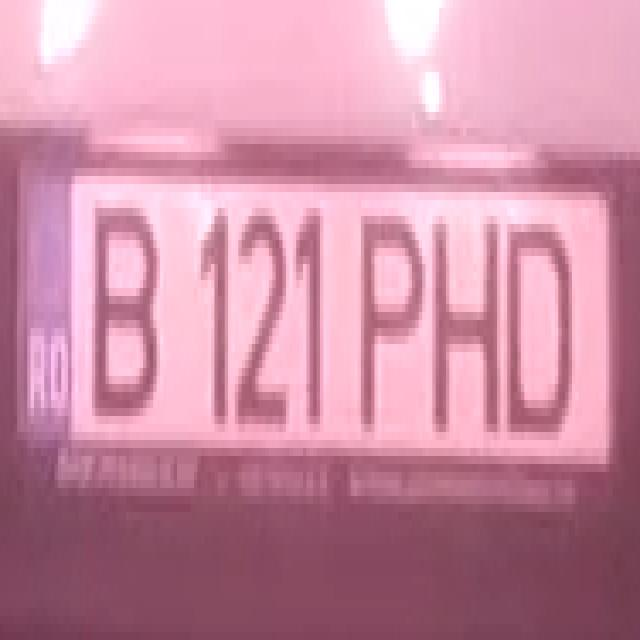EU: (20, 151, 615, 487)
Romanie: (21, 164, 72, 444)
